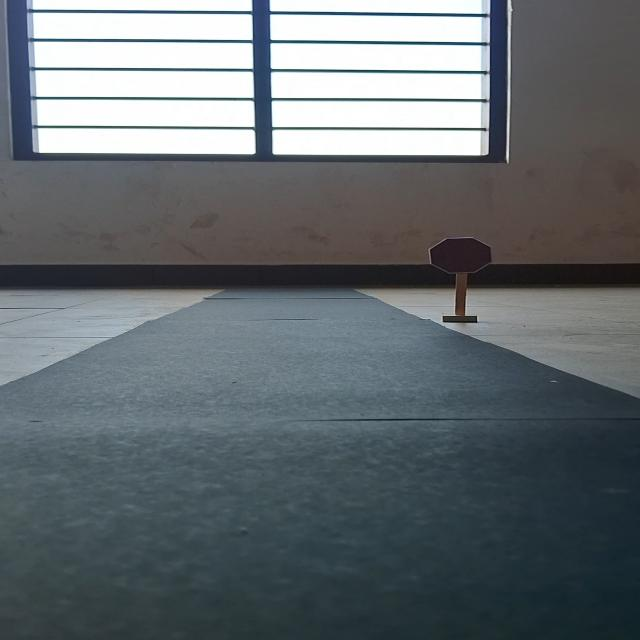Stop: (428, 237, 494, 275)
